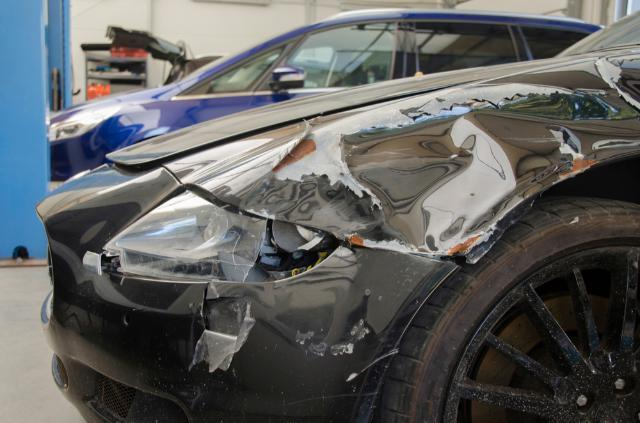crack: (202, 282, 243, 332)
dent: (241, 85, 640, 256)
lamp broken: (105, 191, 343, 282)
scratch: (293, 317, 370, 362)
